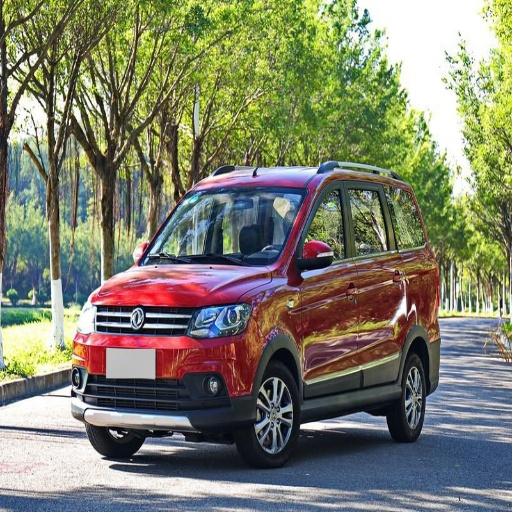front_bumper: (71, 307, 262, 430)
front_glass: (139, 185, 306, 264)
front_left_door: (293, 177, 362, 394)
